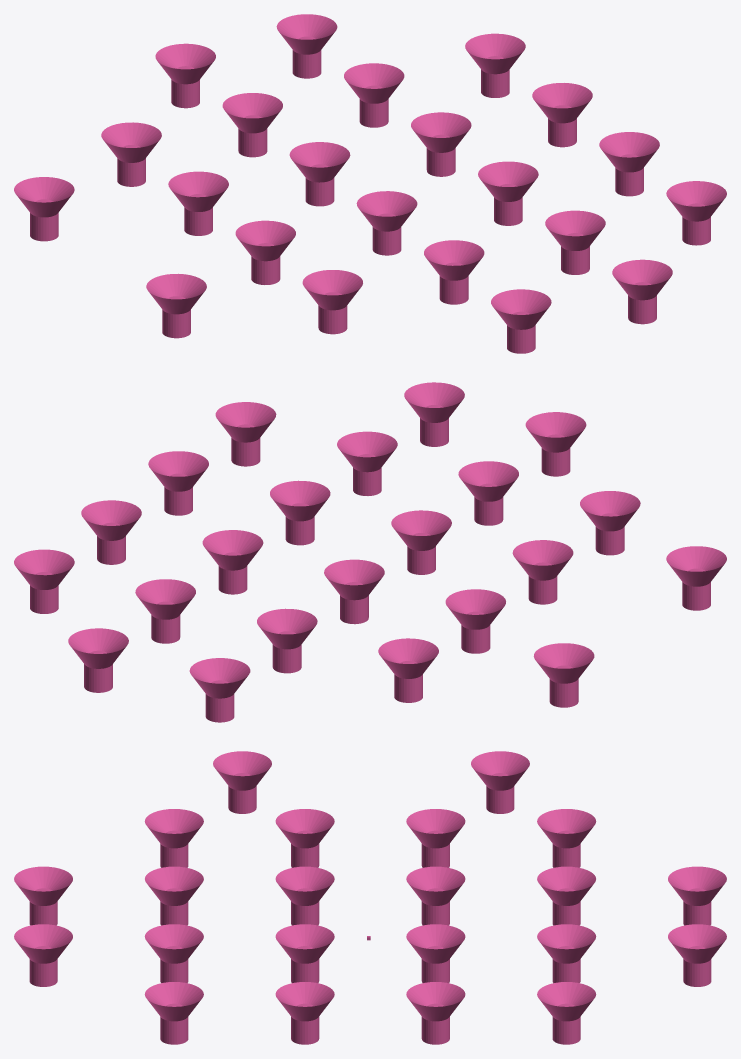
The model's file is filter_route.glb.
The picture shows the model from 3 angles, top to bottom: view 1: azimuth 30°, elevation 25°; view 2: azimuth 150°, elevation 25°; view 3: azimuth 270°, elevation 25°; orthographic projection. The views are drawn at different scales.
Visible parts, largest first — view 1: filter_route; view 2: filter_route; view 3: filter_route.
Part boxes in pixels (left/top/right/bottom): filter_route: left=14, top=14, right=726, bottom=353; filter_route: left=14, top=382, right=726, bottom=722; filter_route: left=14, top=751, right=726, bottom=1044.
Size of the model in its own units: 4.5 by 0.3647 by 5.31.
